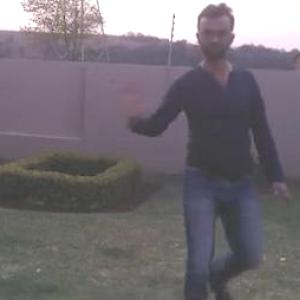follow_hand: (114, 71, 149, 119)
